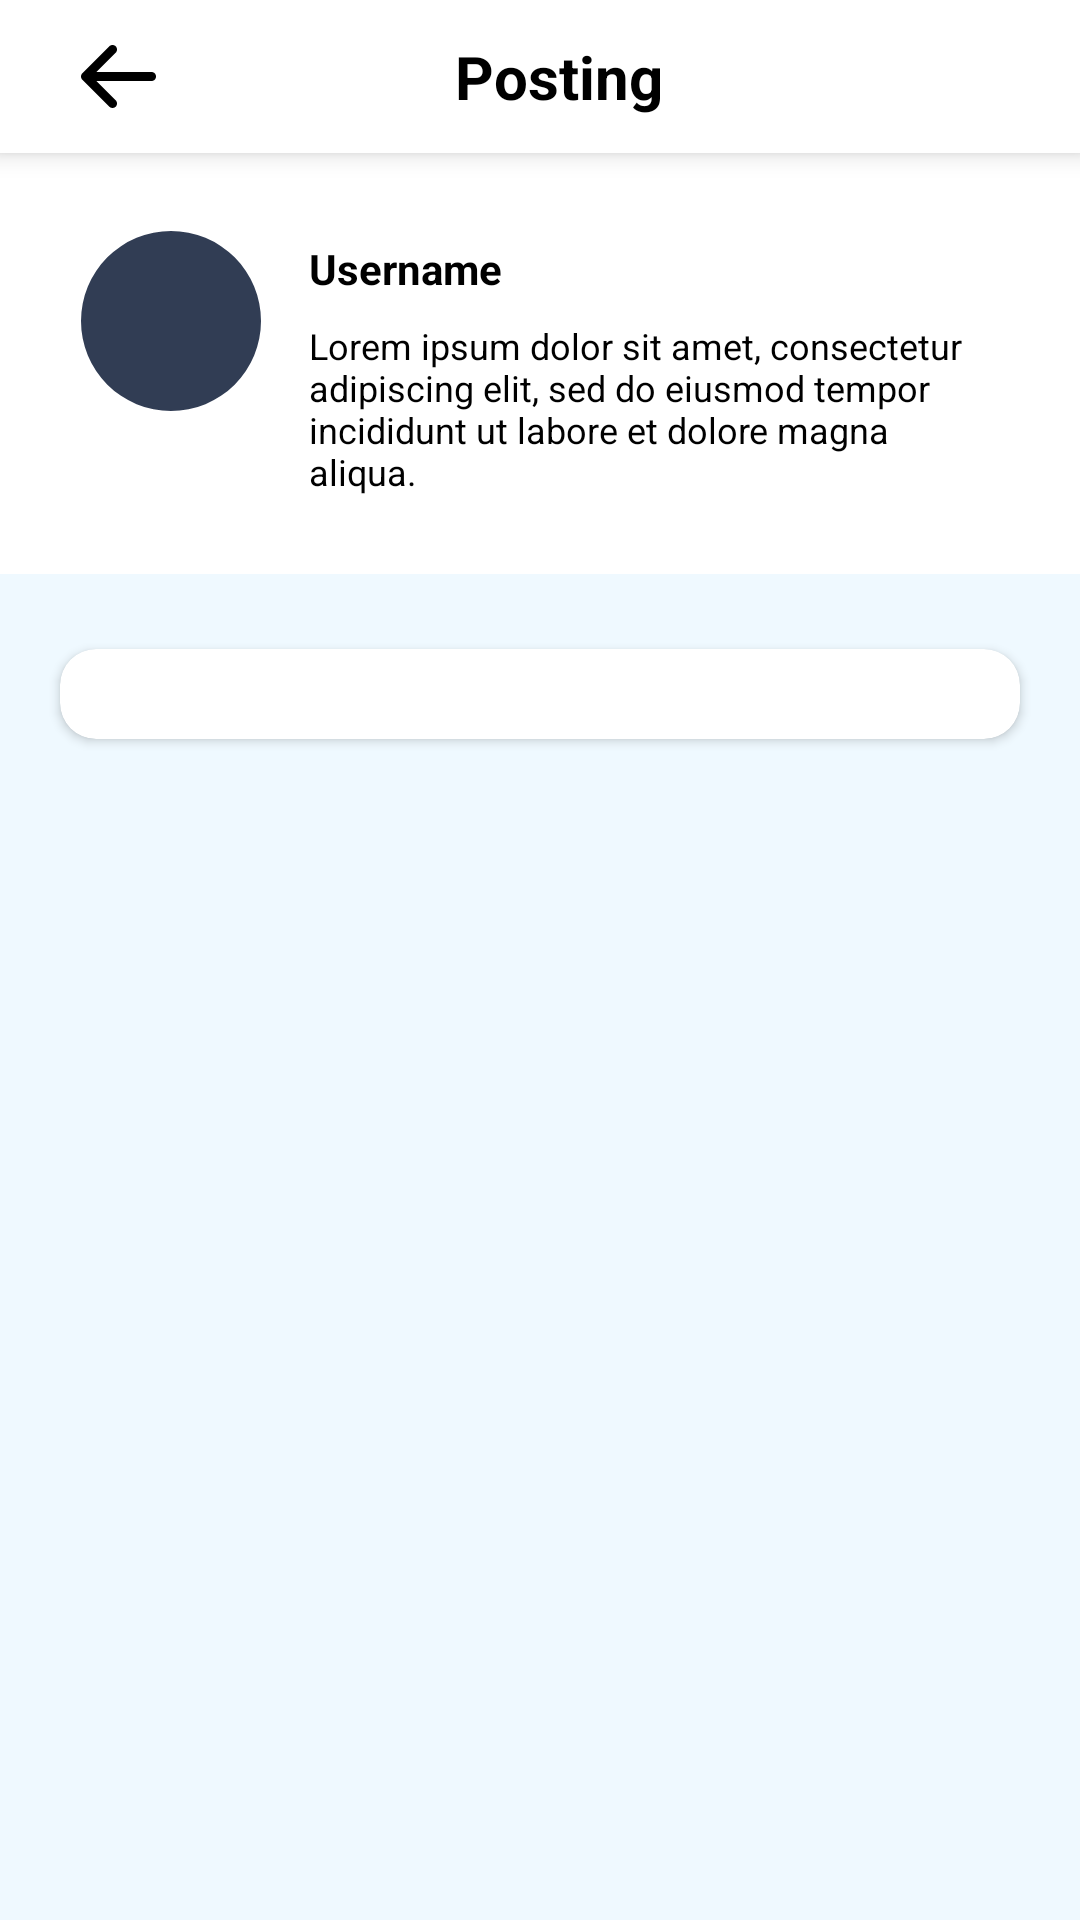

Named icons in this screenshot (1080 × 1920) and their bounding boxes, {"left": x1, "top": y1, "right": x2, "bottom": y2}:
back: {"left": 81, "top": 45, "right": 156, "bottom": 108}
